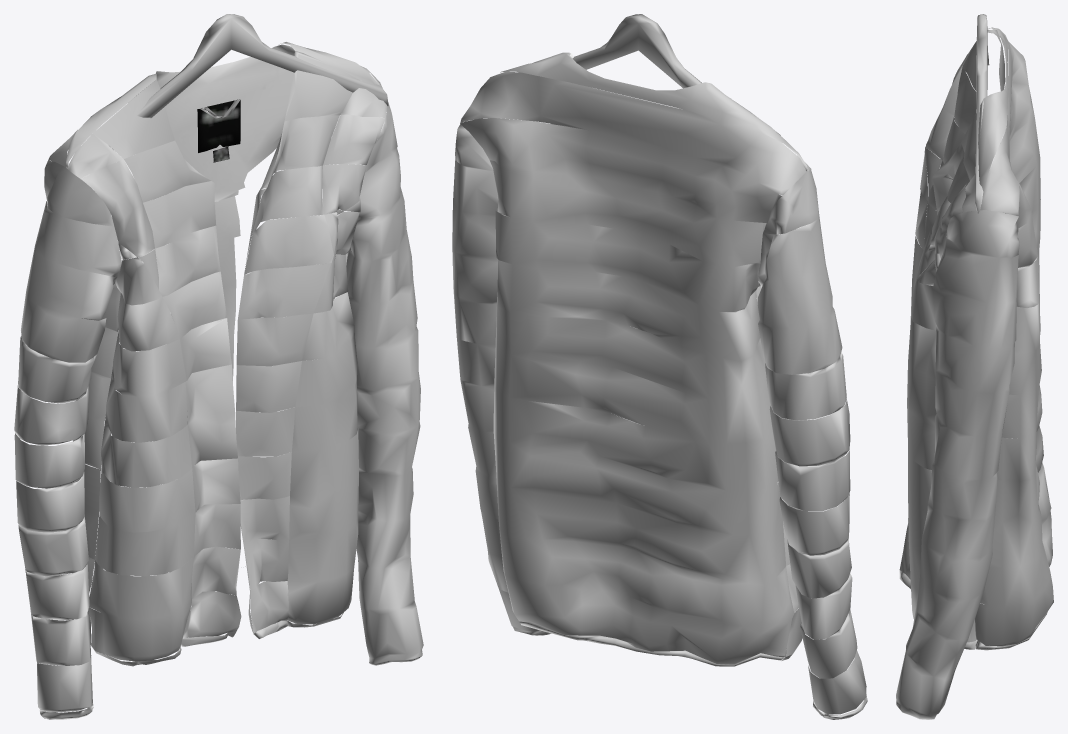
File: hvtop_clothes06_jacket.glb
3 views of the same model, side by side, from view 1: azimuth 30°, elevation 25°; view 2: azimuth 150°, elevation 25°; view 3: azimuth 270°, elevation 25° (orthographic). The views are drawn at different scales.
Visible parts, largest first — view 1: clothes06_jacket_StaticMeshComponent0; view 2: clothes06_jacket_StaticMeshComponent0; view 3: clothes06_jacket_StaticMeshComponent0.
Part boxes in pixels (x1,y1,x2,y2): clothes06_jacket_StaticMeshComponent0: [14, 14, 423, 719]; clothes06_jacket_StaticMeshComponent0: [452, 14, 867, 719]; clothes06_jacket_StaticMeshComponent0: [896, 14, 1053, 719].
Bounding box in the file's own units: 0.4323 × 0.7043 × 0.1589.
Materials: 5 (4 with a texture image).
